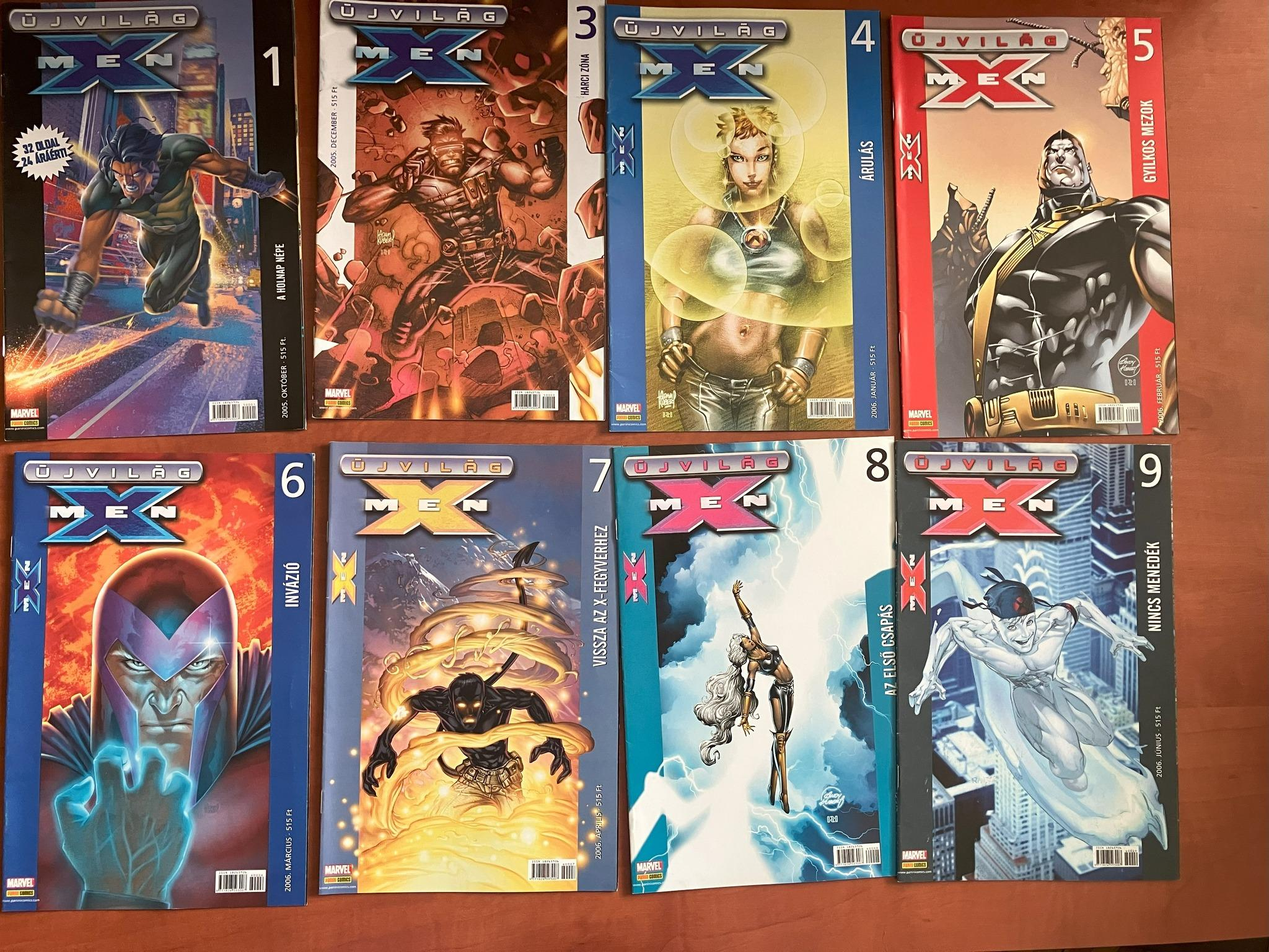comic: (2, 449, 313, 914), (319, 442, 621, 896), (0, 0, 306, 441), (615, 437, 908, 893), (896, 440, 1179, 881), (890, 8, 1177, 442), (314, 0, 608, 420), (606, 3, 888, 432)
